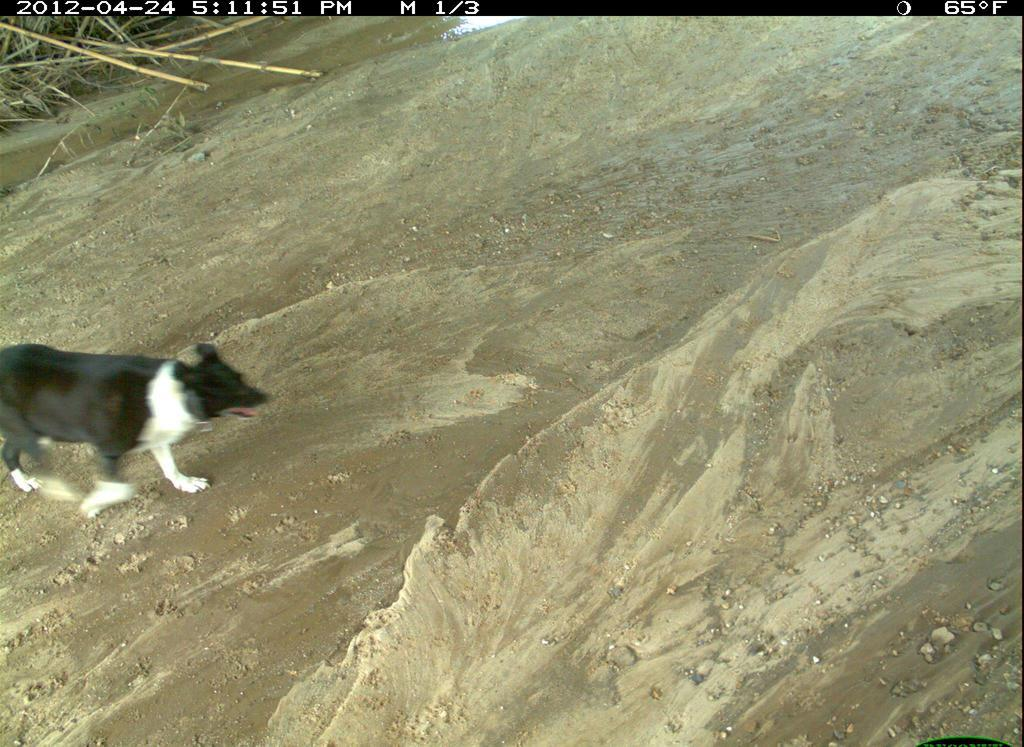dog: (6, 669, 559, 747)
